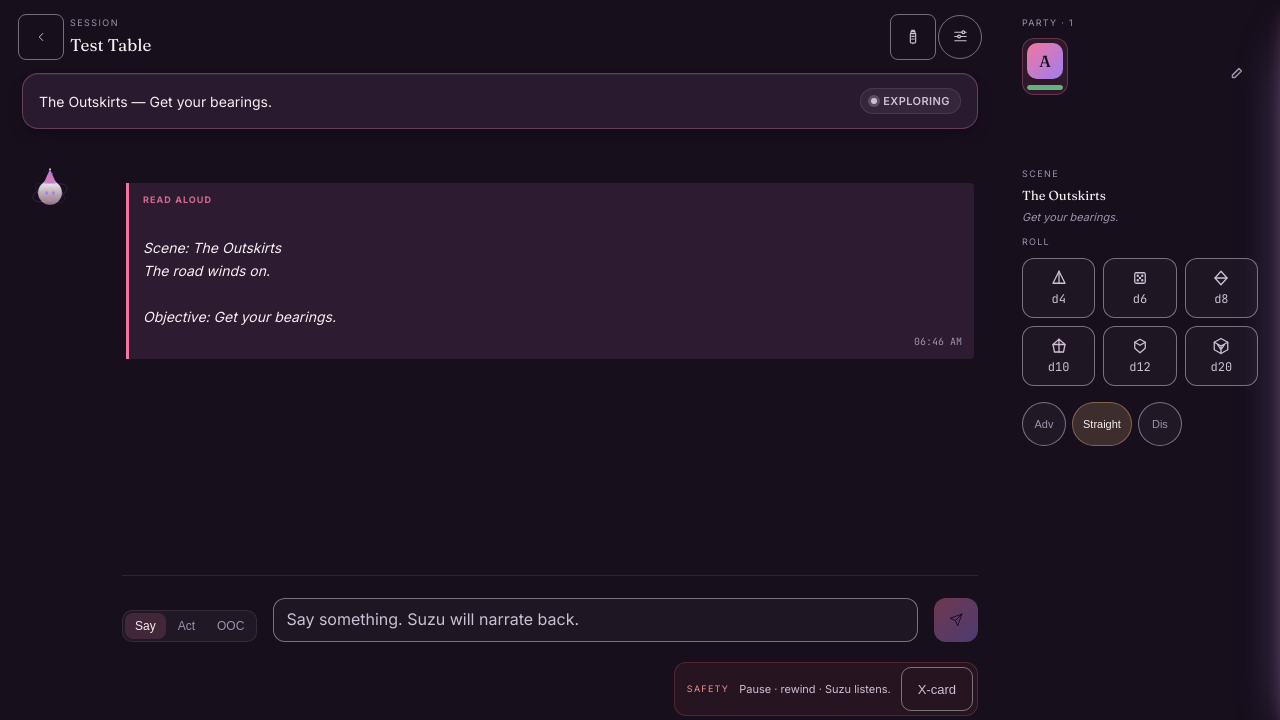
Test: Iro-A11y MAJOR-2 — toast on the sceneHasEncounter rising edge › never toasts for the mount-time value, but toasts once the scene ADVANCES into one with an encounter while combat has not started
The width and height of the screenshot is (1280, 720).
Expected: the text "Test Table" is shown, [70,32,151,57]
Expected: the text "The Outskirts" is shown, [1022,187,1106,203]
Type "I keep moving." into the text box.
click(596, 620); type("I keep moving.")  # box [273,598,918,642]
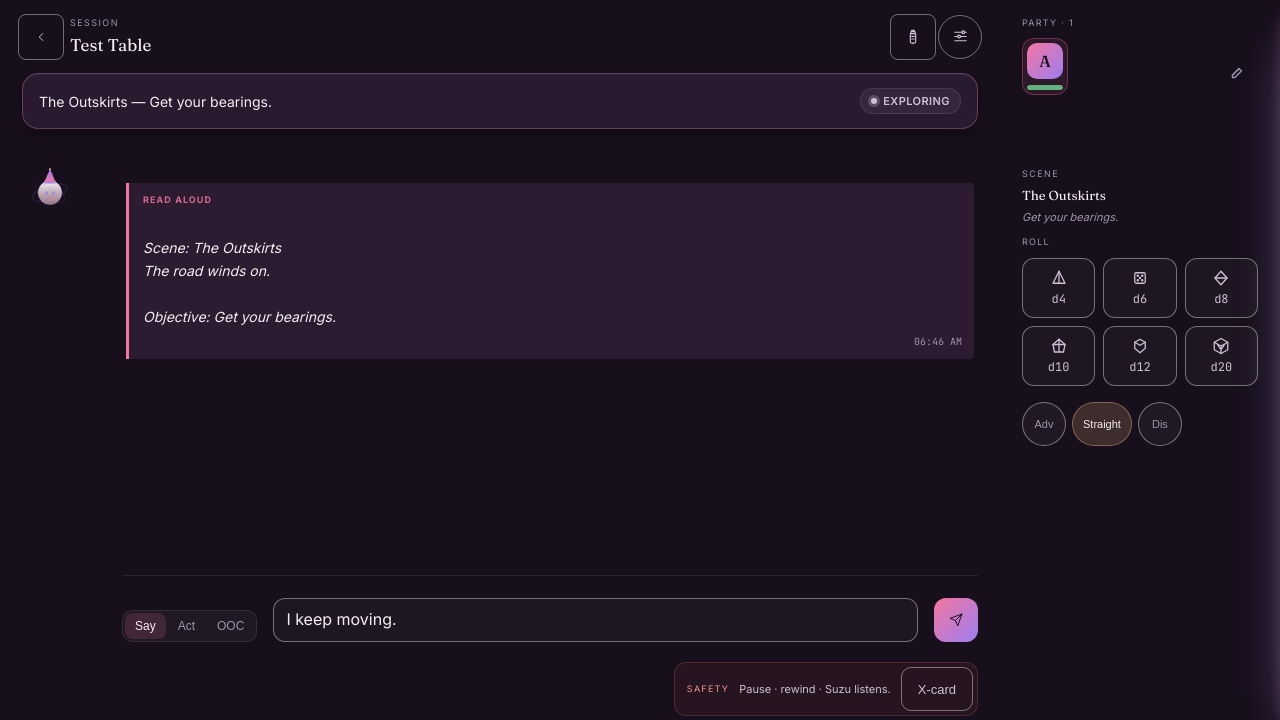
Press Enter in the text box, box [273,598,918,642]
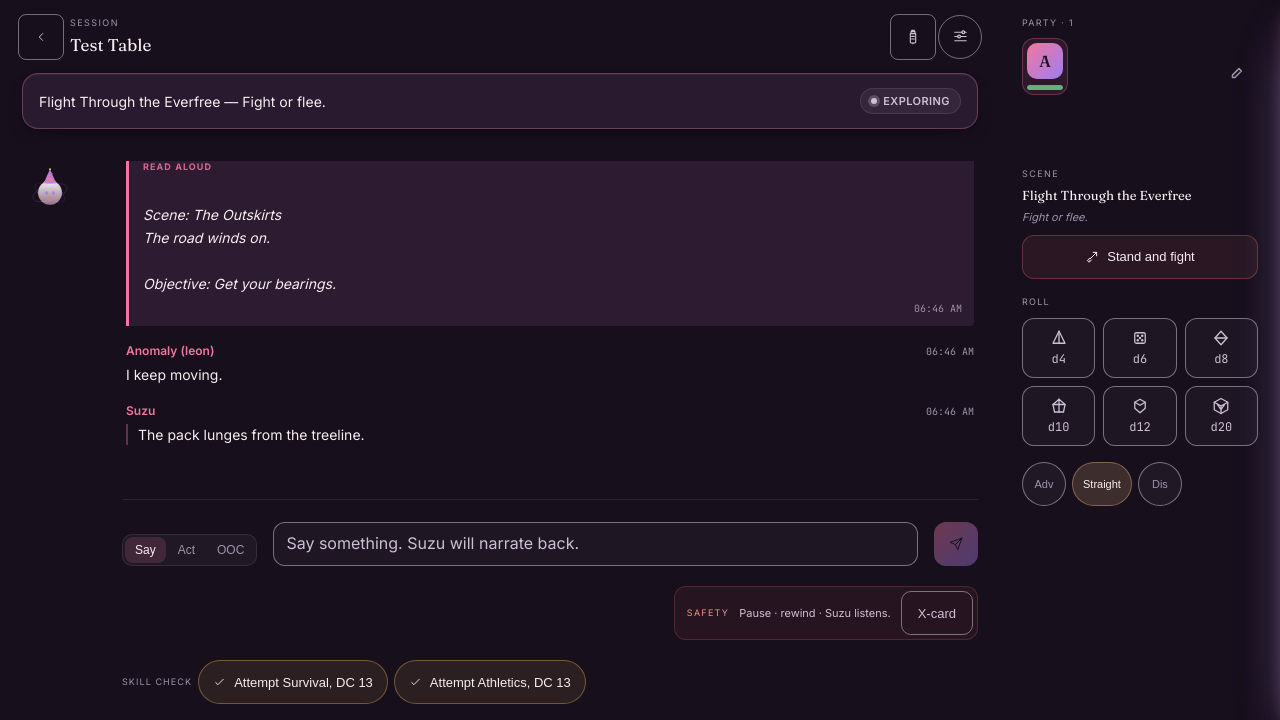
Result: the button "Stand and fight" is shown at [1022,235,1258,279]
